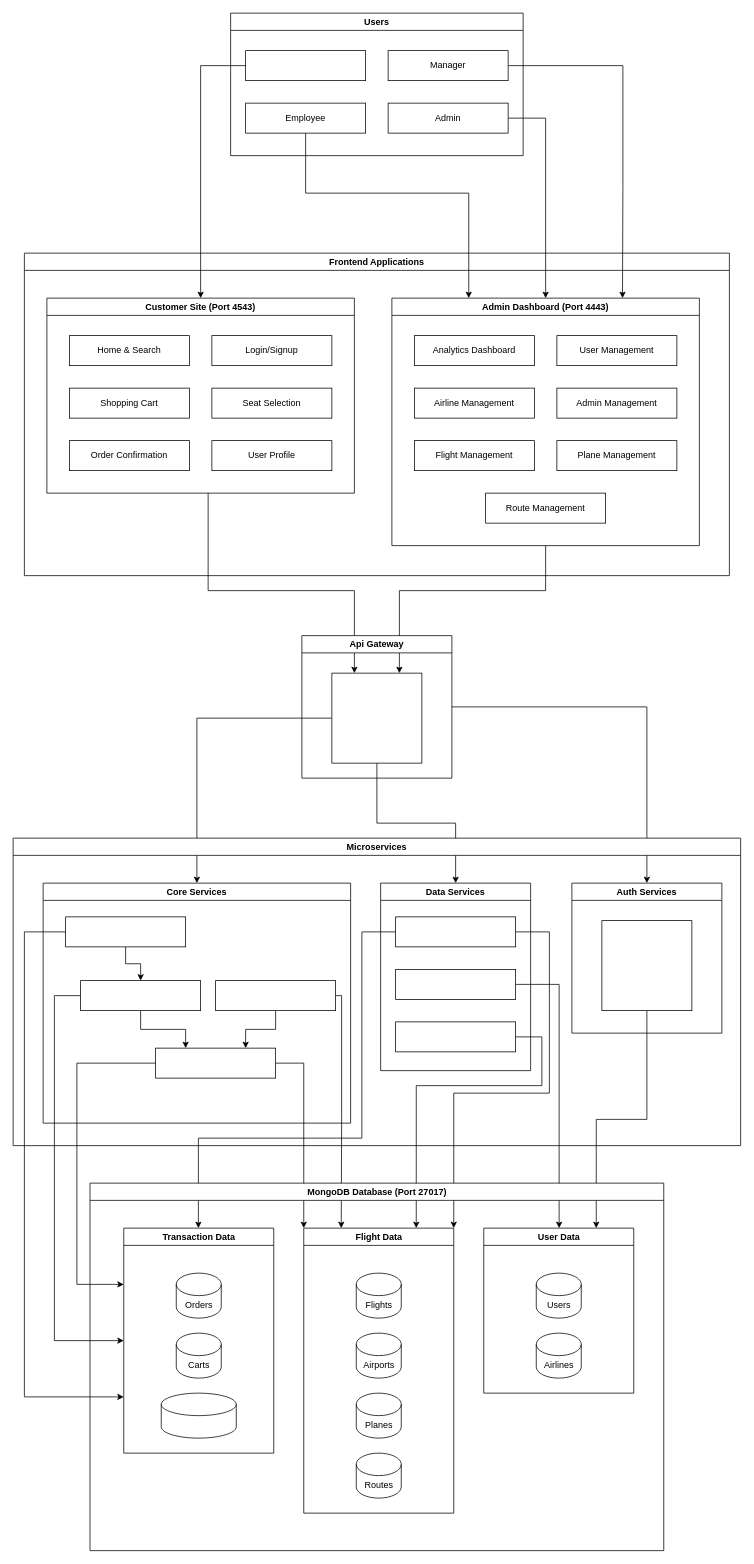
The diagram is 754 pixels wide and 1564 high, and some of its shapes have lost their labels. The shapes that lost their labels are listed below. From the top down, each one's centre as x and y in pixels, then its label:
At point 305,65: "Customer".
At point 376,717: "Express.js Backend HTTPS + JWT Cookies".
At point 125,931: "Cart Management".
At point 455,931: "Analytics & Reports".
At point 455,984: "Airline Operations".
At point 646,965: "Authentication JWT + Roles".
At point 140,995: "Order Processing".
At point 275,995: "Flight Operations".
At point 455,1036: "Airport Data".
At point 215,1062: "Seat Reservation".
At point 198,1415: "Seat Reservations".
